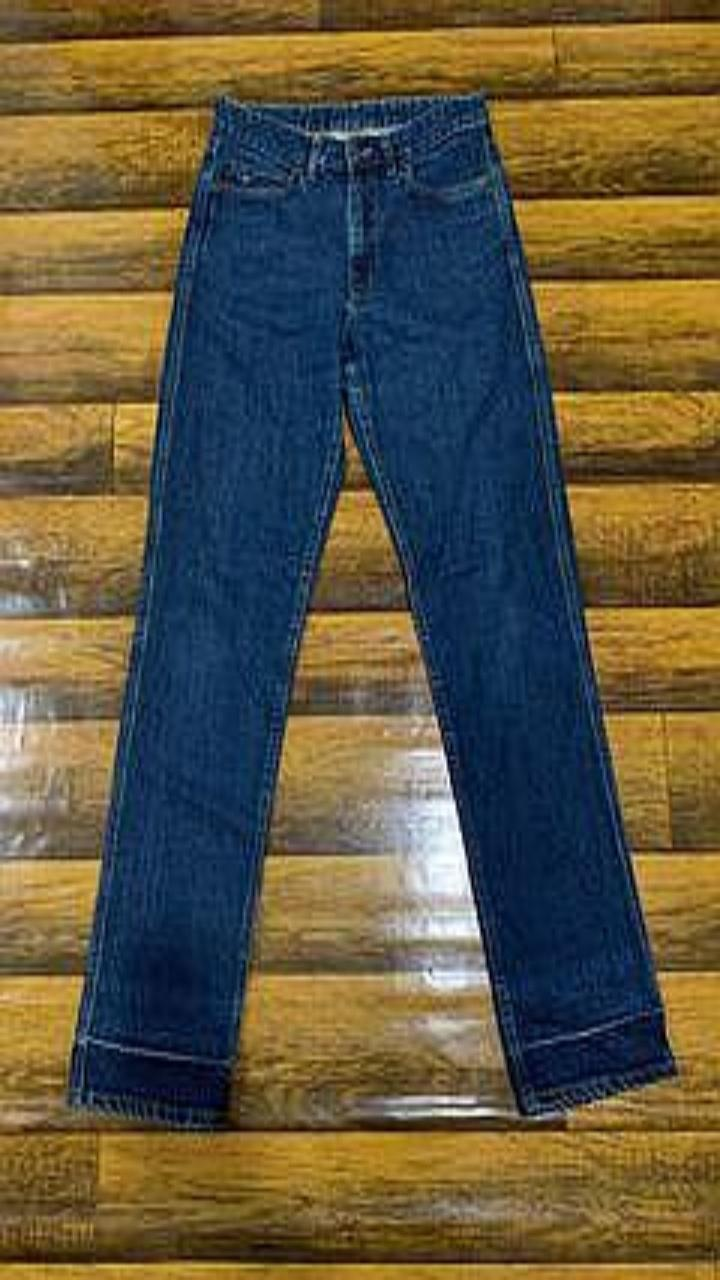Jeans: (67, 92, 677, 1127)
